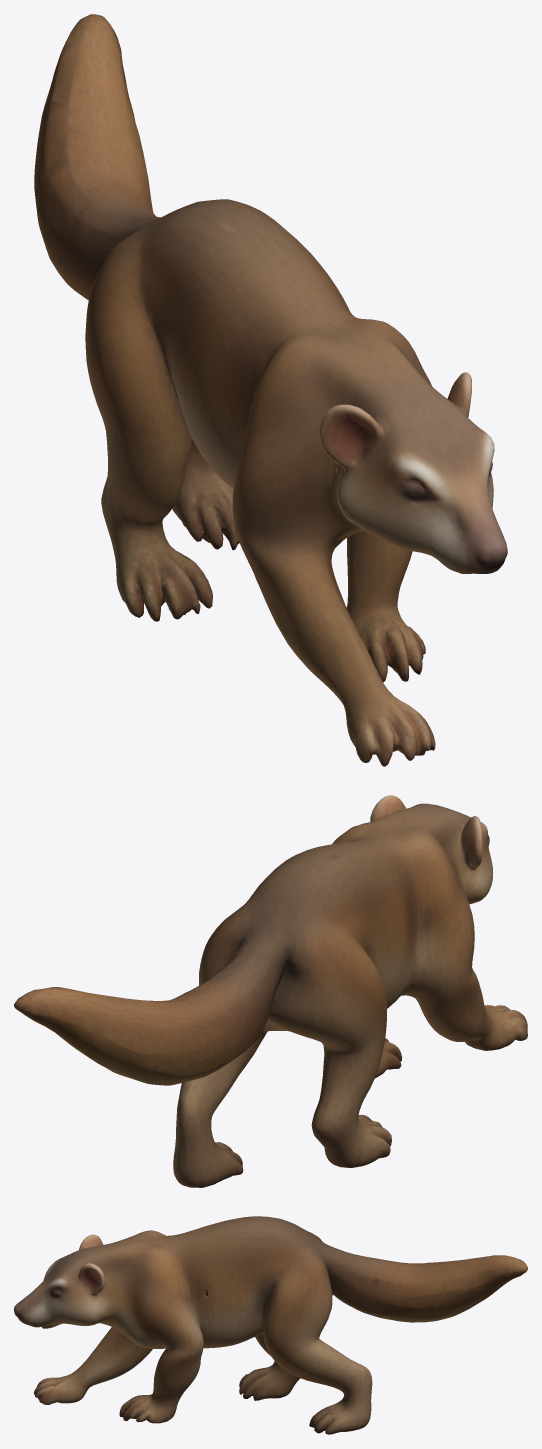
The picture shows the model from 3 angles, top to bottom: view 1: azimuth 30°, elevation 25°; view 2: azimuth 150°, elevation 25°; view 3: azimuth 270°, elevation 25°; orthographic projection. The views are drawn at different scales.
Parts seen in each view (by area): view 1: world; view 2: world; view 3: world.
Boxes of the visible parts, box(x1,y1,x2,y2) form: world: box(34, 14, 507, 766); world: box(14, 795, 527, 1187); world: box(14, 1216, 527, 1434).
Bounding box in the file's own units: 0.1807 × 0.2708 × 0.65.
1 material, 1 textured.
